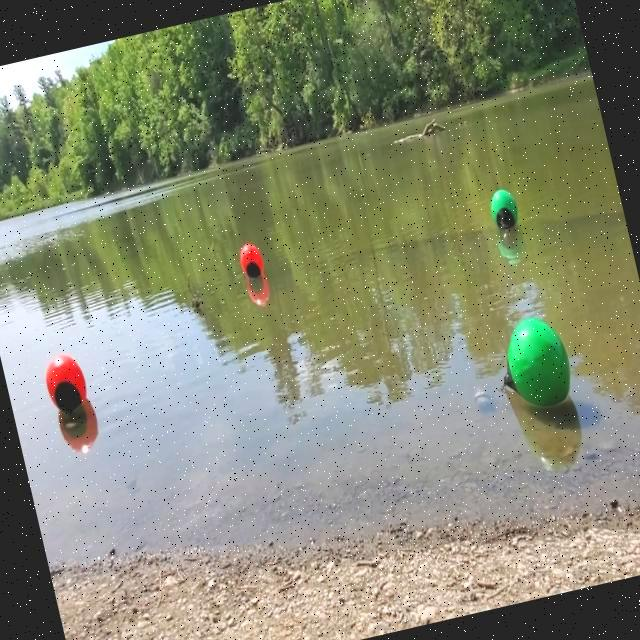buoy: (489, 308, 580, 418), (39, 345, 92, 418), (485, 184, 521, 234), (236, 240, 266, 282)
